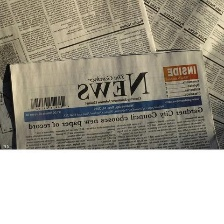news_paper: (2, 45, 221, 149), (0, 0, 159, 105), (138, 0, 224, 150)
